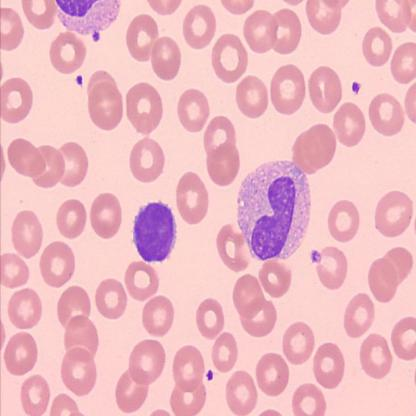Metamyelocyte: (234, 156, 314, 265)
